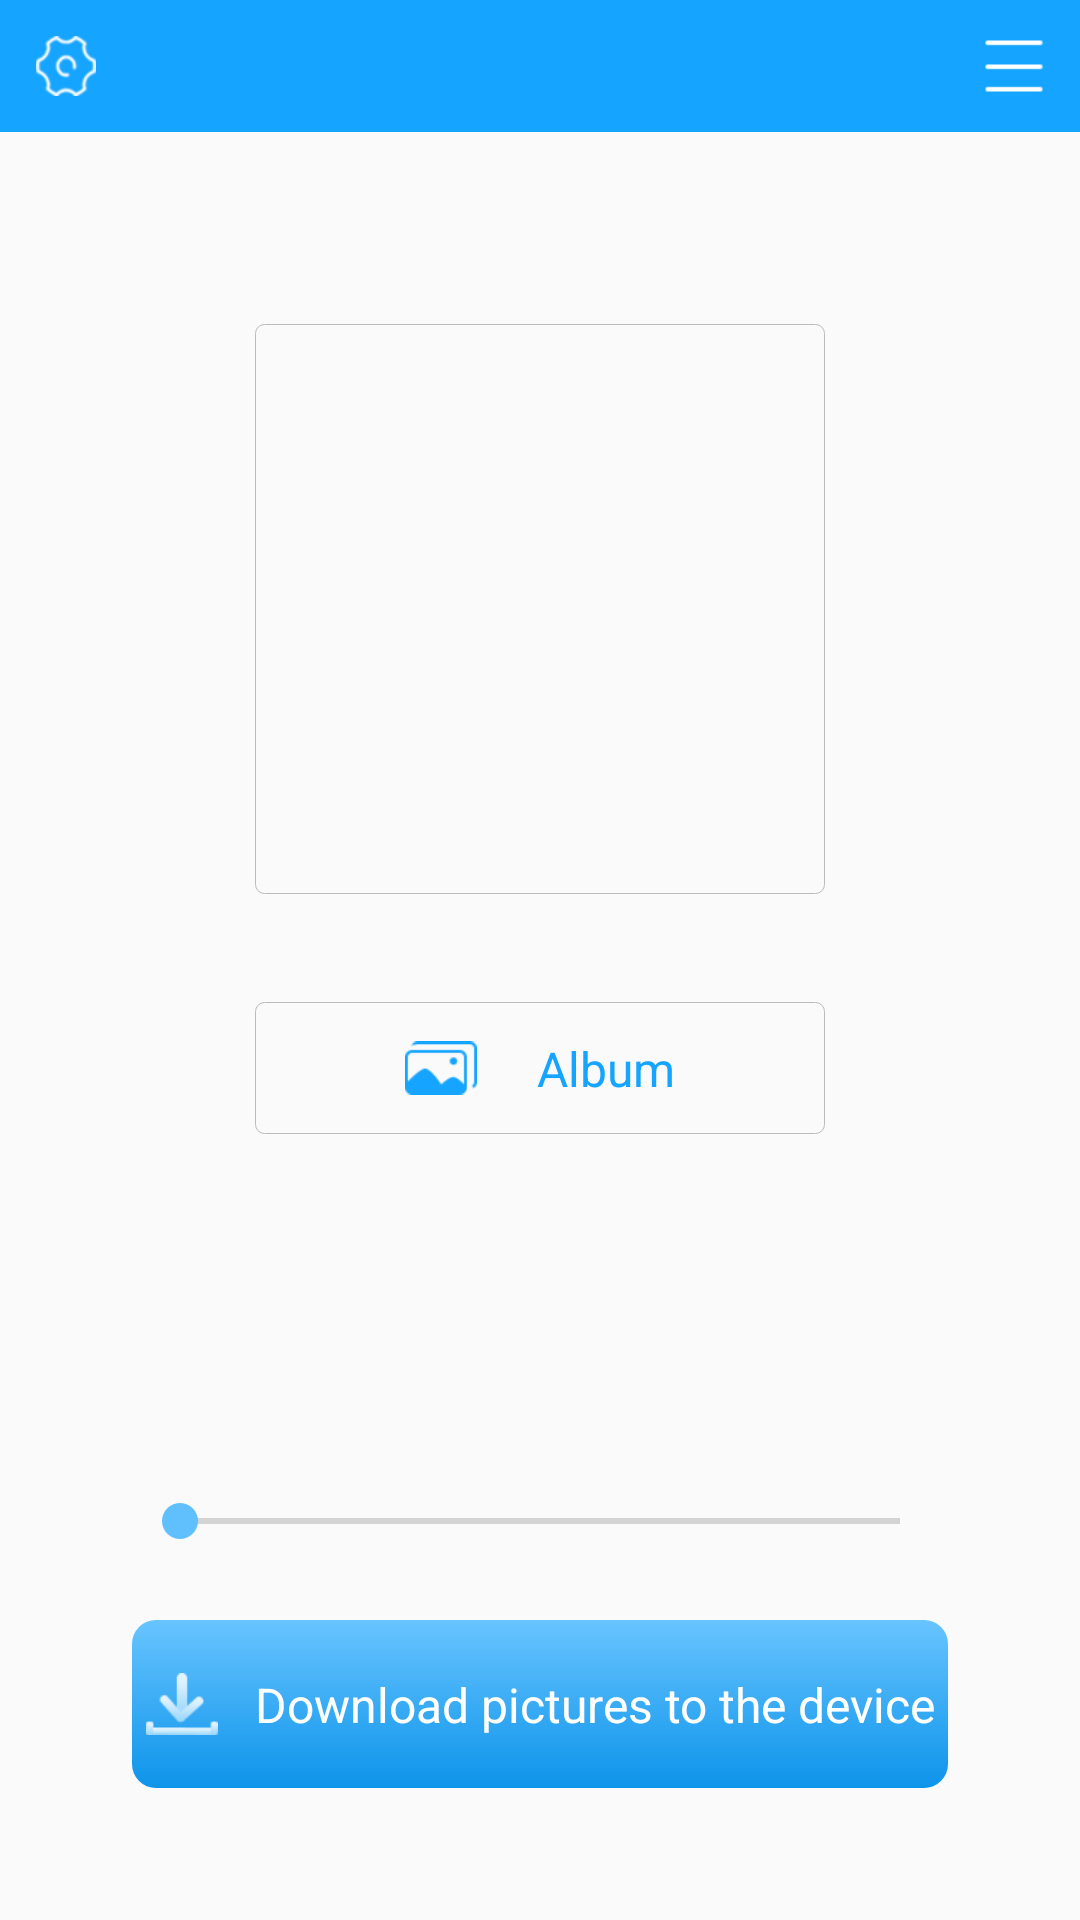

Icons on this 1080w x 1920h Android screen, each with the point to tap as (x=x, y=y):
devicelist: (x=1014, y=66)
photo: (x=441, y=1068)
setting: (x=66, y=66)
